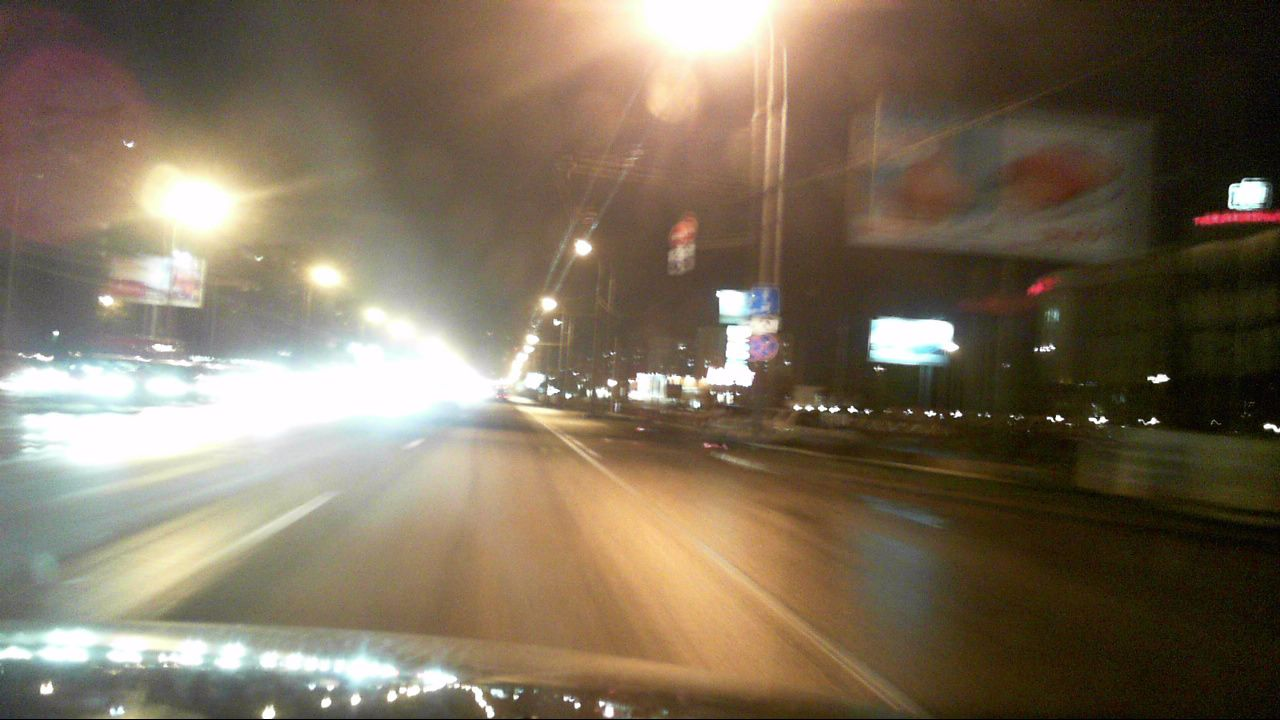No Parking: (752, 336, 778, 361)
